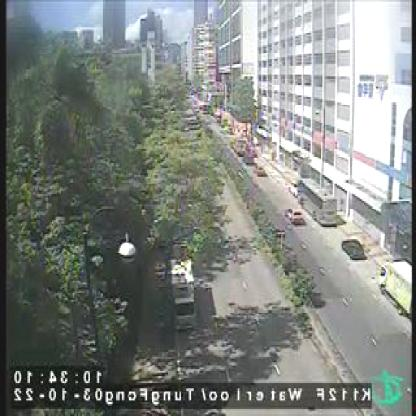Bus: (300, 177, 340, 225)
Car: (381, 260, 412, 315), (343, 234, 365, 257), (288, 206, 304, 222), (290, 180, 302, 194), (256, 163, 265, 175)
Truck: (174, 251, 199, 324)
